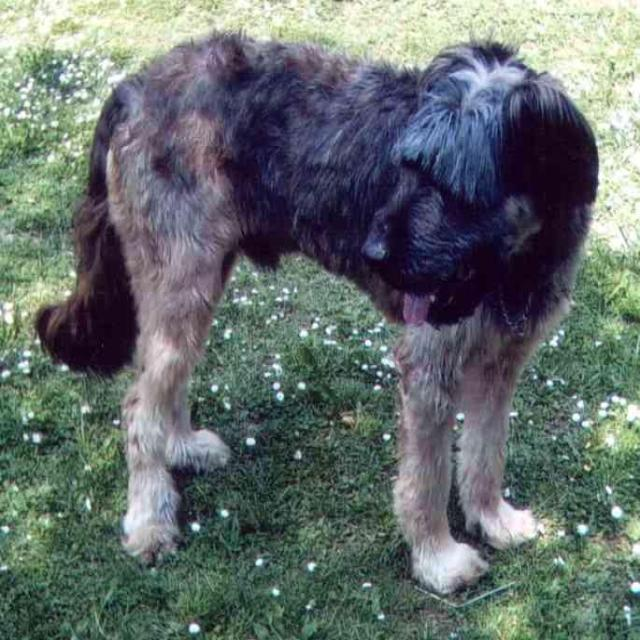irish_wolfhound: (32, 24, 604, 594)
